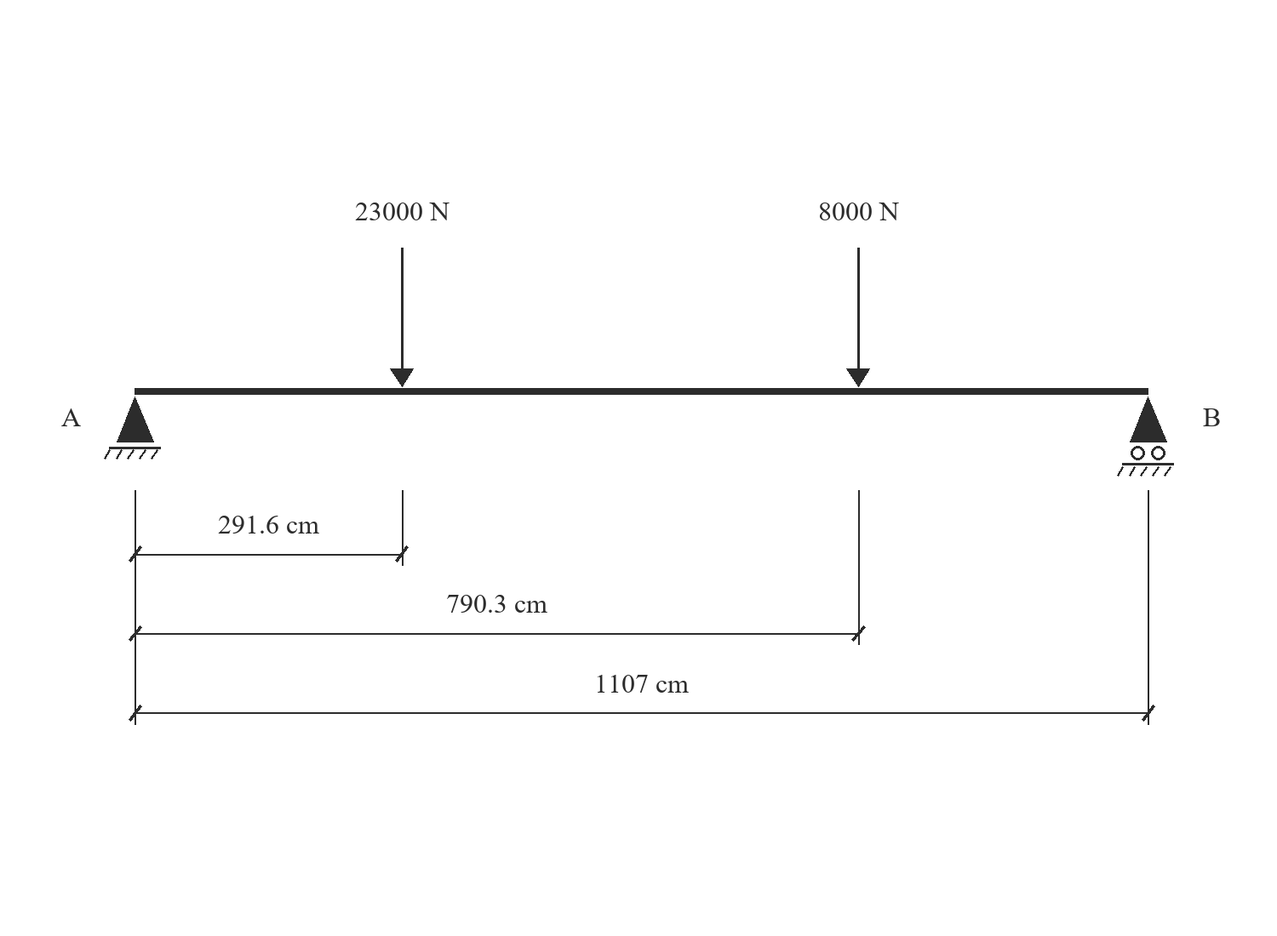pin_support: (104, 397, 161, 459)
point_load: (390, 248, 414, 387), (846, 248, 870, 387)
roller_support: (1117, 397, 1174, 477)
